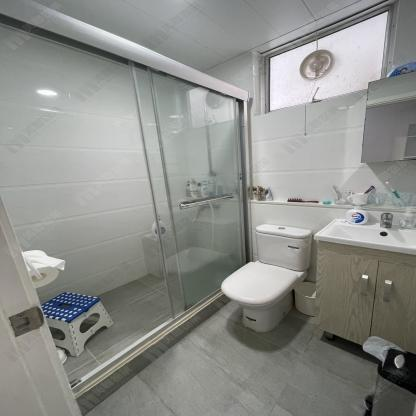Exhaust Fan: (299, 49, 334, 80)
Toilet: (216, 223, 312, 332)
Toilet Sink: (315, 219, 416, 254)
Water Cubicle: (0, 1, 252, 413)
